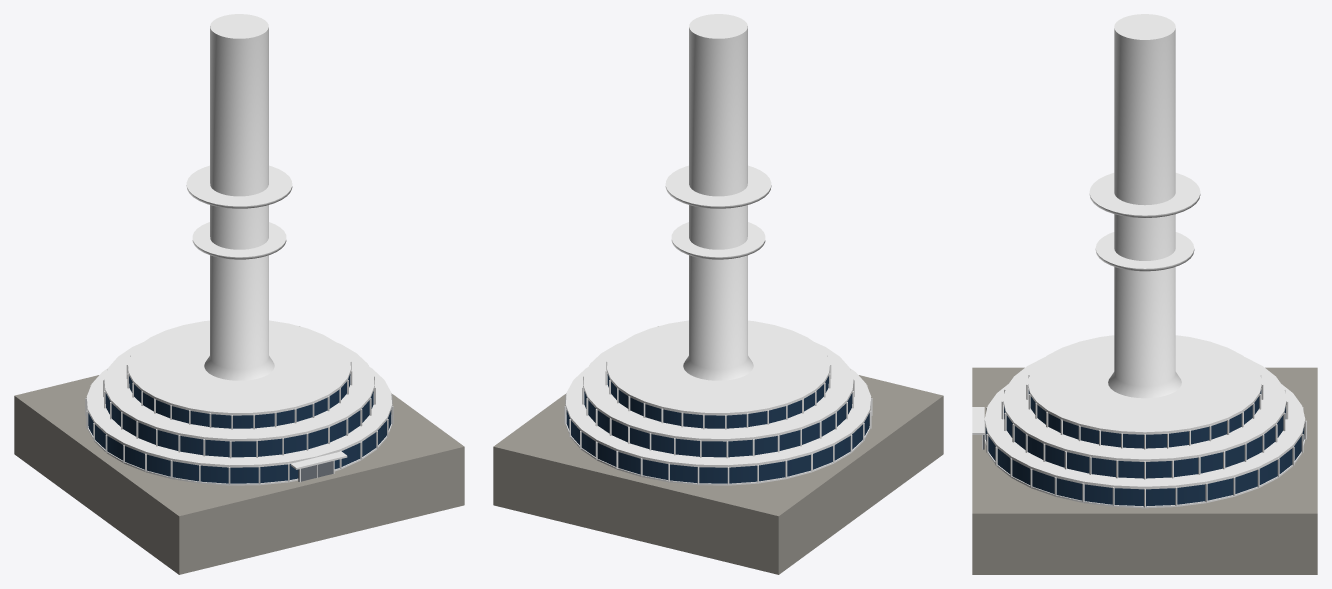
Rendered from base-prebuilt.fbx.
3 views of the same model, side by side, from view 1: azimuth 30°, elevation 25°; view 2: azimuth 150°, elevation 25°; view 3: azimuth 270°, elevation 25° (orthographic). The views are drawn at different scales.
Visible parts, largest first — view 1: landmark-great_tower/0/base-prebuilt; view 2: landmark-great_tower/0/base-prebuilt; view 3: landmark-great_tower/0/base-prebuilt.
Boxes of the visible parts, left/top/right/bottom form: landmark-great_tower/0/base-prebuilt: left=14, top=14, right=464, bottom=574; landmark-great_tower/0/base-prebuilt: left=493, top=14, right=943, bottom=574; landmark-great_tower/0/base-prebuilt: left=972, top=14, right=1317, bottom=574.
Size of the model in its own units: 56 by 85 by 56.
